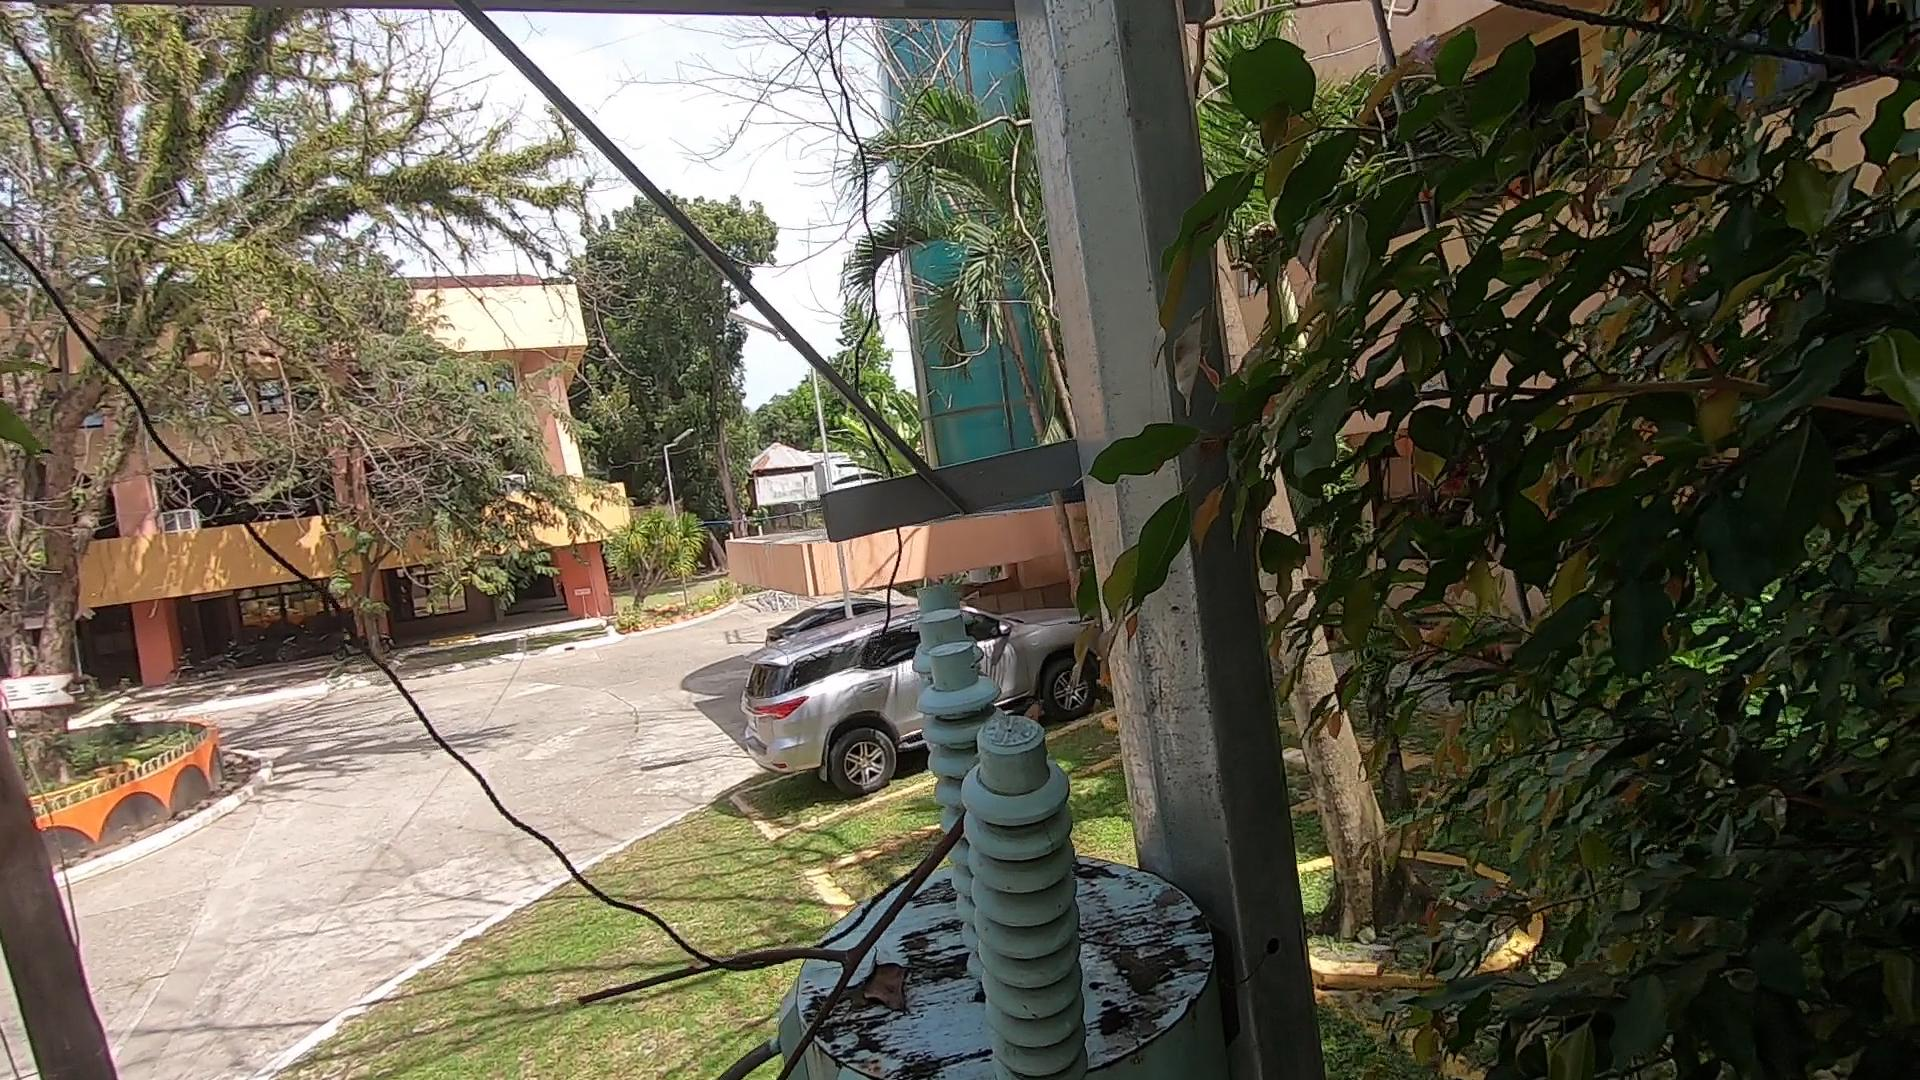leaf: (852, 949, 938, 1011)
tree branch: (560, 717, 1004, 1080)
